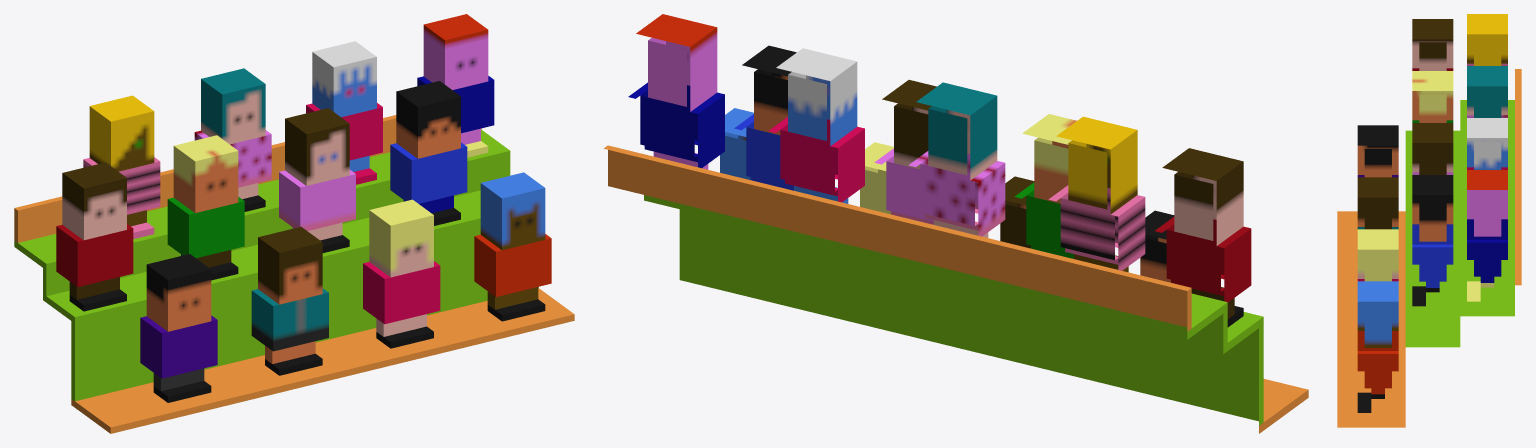
Rendered from barra_left.fbx.
3 renders of one model, left to right at view 1: azimuth 30°, elevation 25°; view 2: azimuth 150°, elevation 25°; view 3: azimuth 270°, elevation 25°, orthographic. The views are drawn at different scales.
Visible parts, largest first — view 1: graderia, v_1, z_1, a_2, c_1, x_1, s_2, f_2, d_2, r_1, q_1, w_1 (+1 smaller); view 2: graderia, a_2, w_1, q_1, r_1, e_1, d_2, s_2, f_2, z_1, c_1, x_1 (+1 smaller); view 3: graderia, v_1, f_2, r_1, c_1, z_1, x_1, d_2, s_2, a_2, e_1, w_1 (+1 smaller).
Boxes of the visible parts, x1,y1,x2,y2 form: graderia: [14, 115, 574, 433]; v_1: [474, 172, 551, 321]; z_1: [140, 254, 217, 402]; a_2: [56, 162, 133, 311]; c_1: [363, 199, 440, 348]; x_1: [251, 226, 328, 375]; s_2: [167, 135, 244, 280]; f_2: [390, 81, 467, 225]; d_2: [279, 108, 355, 252]; r_1: [417, 14, 494, 157]; q_1: [83, 95, 160, 238]; w_1: [194, 68, 271, 211]; graderia: [604, 145, 1308, 433]; a_2: [1155, 148, 1251, 327]; w_1: [908, 82, 1005, 237]; q_1: [1048, 116, 1145, 272]; r_1: [628, 14, 724, 169]; e_1: [768, 48, 864, 203]; d_2: [874, 80, 936, 224]; s_2: [1014, 114, 1076, 258]; f_2: [734, 45, 796, 190]; z_1: [1140, 210, 1174, 282]; c_1: [860, 142, 893, 214]; x_1: [1000, 176, 1034, 248]; graderia: [1337, 69, 1521, 427]; v_1: [1357, 281, 1398, 412]; f_2: [1412, 175, 1453, 306]; r_1: [1467, 170, 1507, 301]; c_1: [1357, 229, 1398, 281]; z_1: [1357, 125, 1398, 177]; x_1: [1357, 177, 1398, 229]; d_2: [1412, 123, 1453, 174]; s_2: [1412, 71, 1453, 122]; a_2: [1412, 19, 1453, 70]; e_1: [1467, 118, 1507, 169]; w_1: [1467, 66, 1507, 117].
Size of the model in its own units: 75 by 38 by 27.
